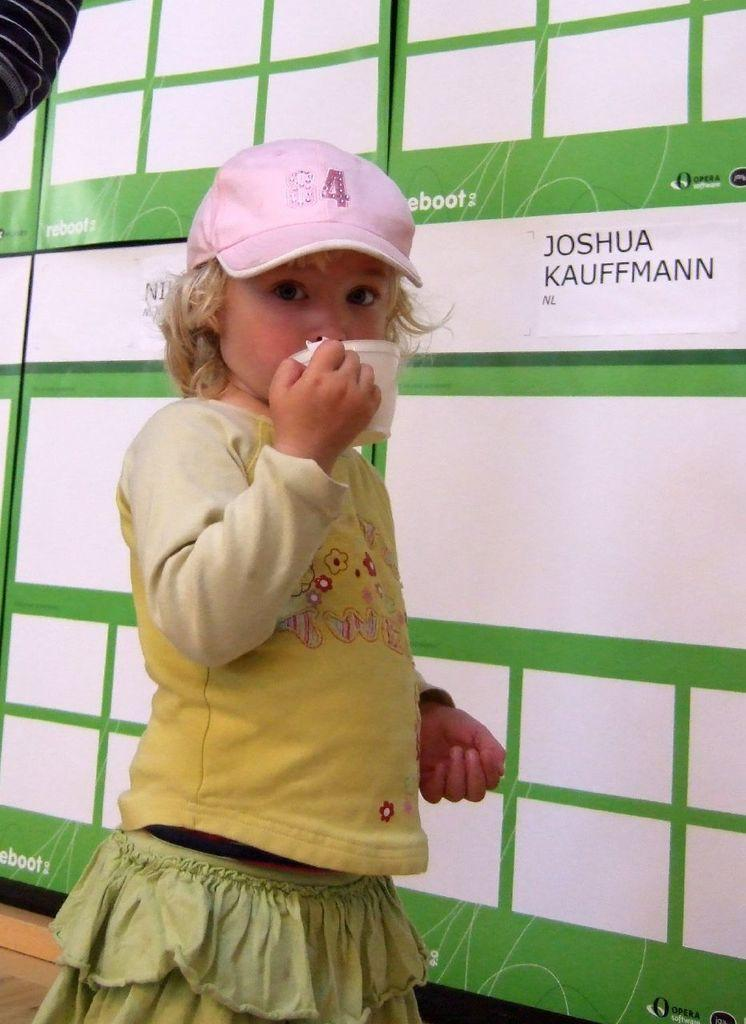Hat: (178, 134, 419, 284)
